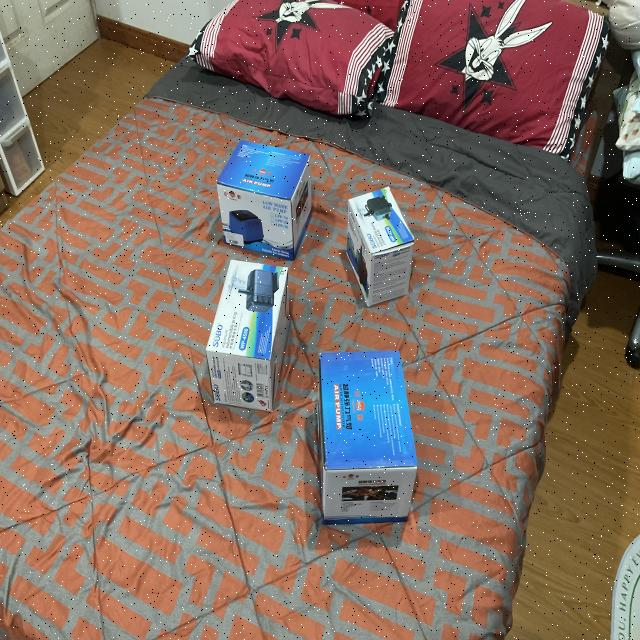SOBO_WP_4200: (194, 247, 304, 419), (334, 164, 426, 311)
YAMANO_LPP_20: (312, 347, 426, 551), (210, 136, 324, 268)
